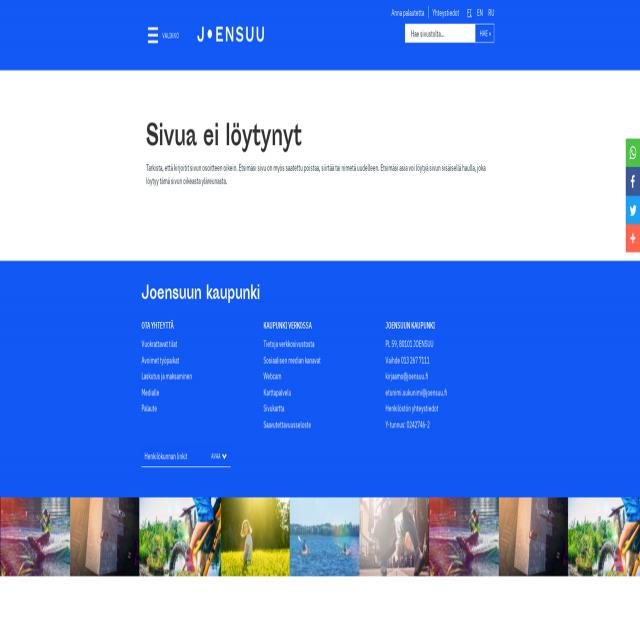button: (146, 21, 160, 49)
field: (405, 23, 475, 42)
